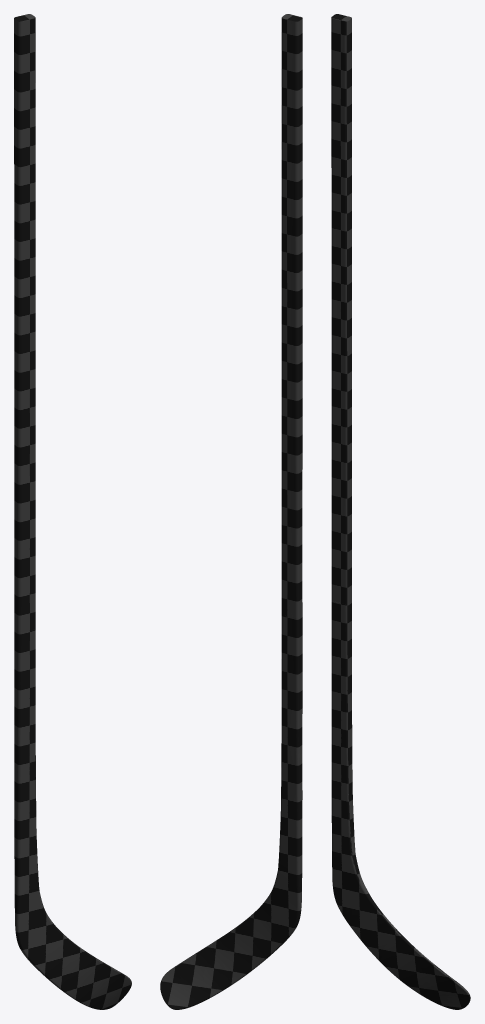
The picture shows the model from 3 angles, left to right: view 1: azimuth 30°, elevation 25°; view 2: azimuth 150°, elevation 25°; view 3: azimuth 330°, elevation 25°; orthographic projection. The views are drawn at different scales.
Visible parts, largest first — view 1: geometry_0; view 2: geometry_0; view 3: geometry_0.
Boxes of the visible parts, x1=… form: geometry_0: x1=14, y1=14, x2=131, y2=1009; geometry_0: x1=160, y1=14, x2=302, y2=1009; geometry_0: x1=331, y1=14, x2=470, y2=1009.
Size of the model in its own units: 218 by 1650 by 62.36.
1 material, 1 textured.
